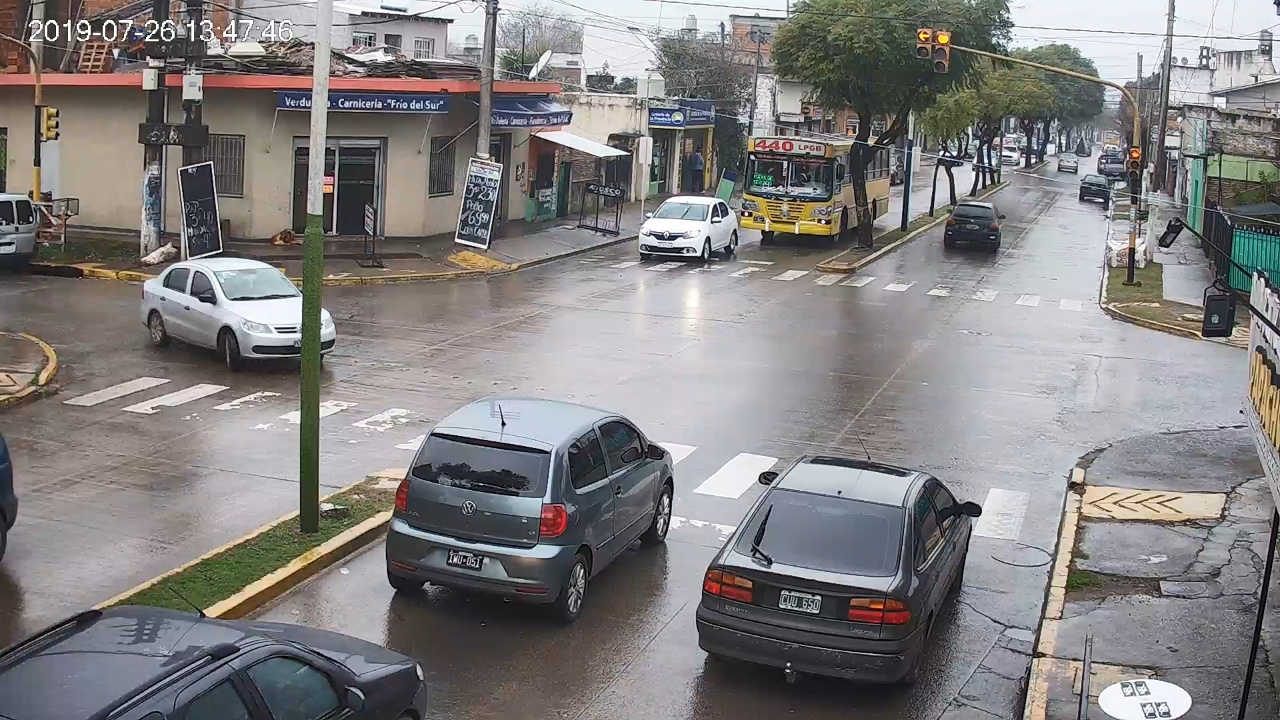car: (695, 453, 982, 685), (383, 392, 675, 618), (944, 201, 1006, 253)
front car: (141, 257, 336, 370), (638, 196, 738, 262)
traffic light: (935, 31, 949, 73), (1129, 146, 1140, 179)
